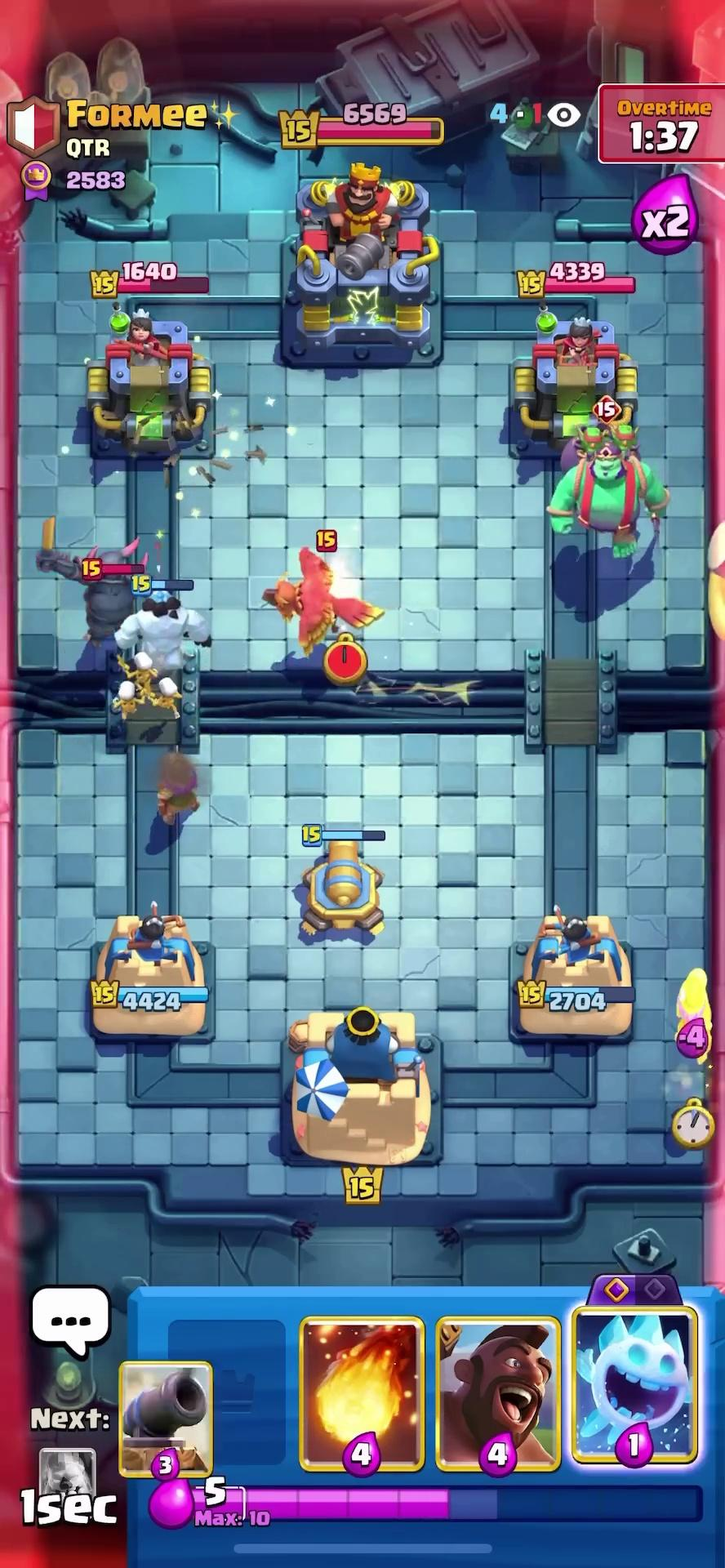cannon: (286, 823, 410, 941)
ice_golem: (118, 582, 210, 666)
musketeer: (643, 958, 725, 1054), (151, 743, 204, 819)
skeletons: (102, 653, 194, 721)
